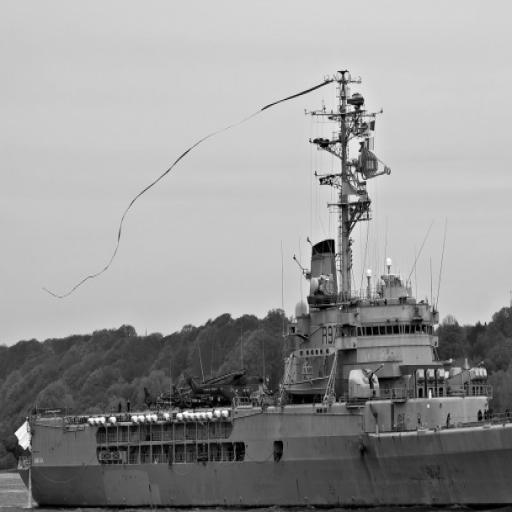Portanaves: (10, 58, 512, 512)
